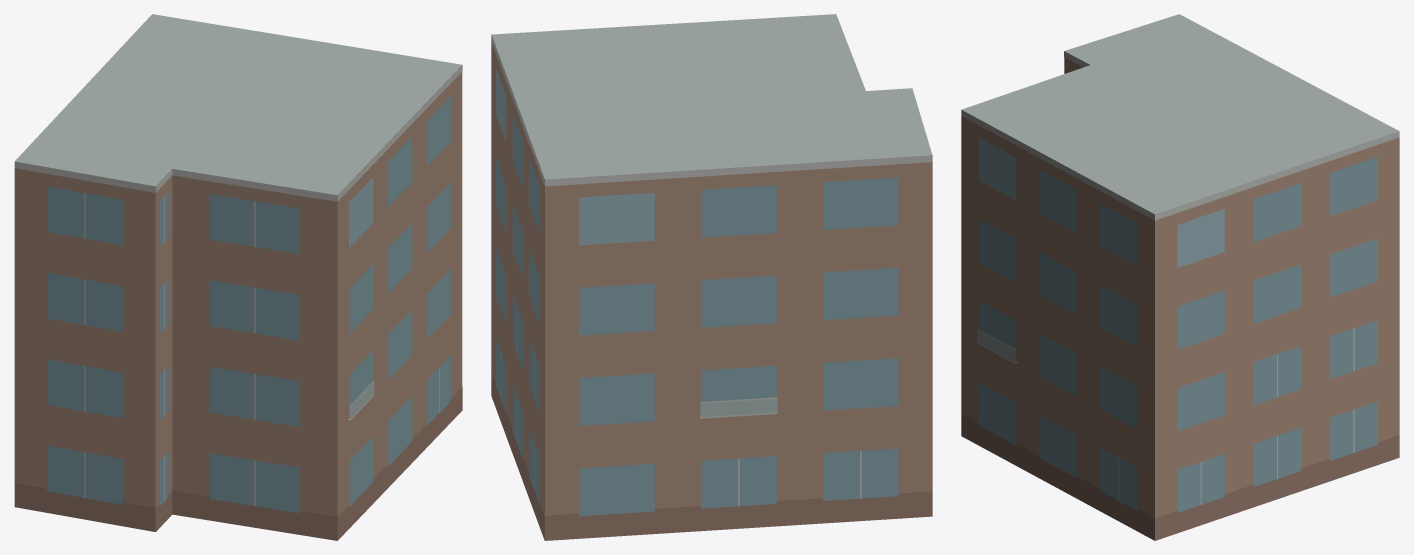
File: survey-upis-32950756.glb
3 renders of one model, left to right at view 1: azimuth 30°, elevation 25°; view 2: azimuth 150°, elevation 25°; view 3: azimuth 270°, elevation 25°, orthographic. The views are drawn at different scales.
Parts seen in each view (by area): view 1: survey-upis-32950756.tmp; view 2: survey-upis-32950756.tmp; view 3: survey-upis-32950756.tmp.
Part boxes in pixels (x1,y1,x2,y2): survey-upis-32950756.tmp: (14, 14, 462, 540); survey-upis-32950756.tmp: (491, 14, 932, 540); survey-upis-32950756.tmp: (961, 14, 1399, 540).
Bounding box in the file's own units: 17 × 12.9 × 15.71.
